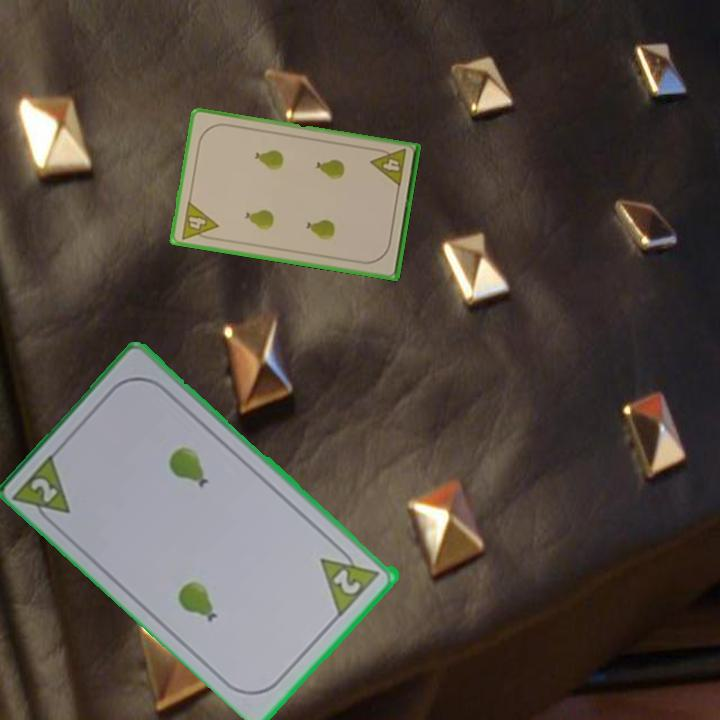2p: (330, 565, 365, 598), (27, 473, 61, 506)
4p: (177, 198, 221, 244), (367, 145, 409, 190)
